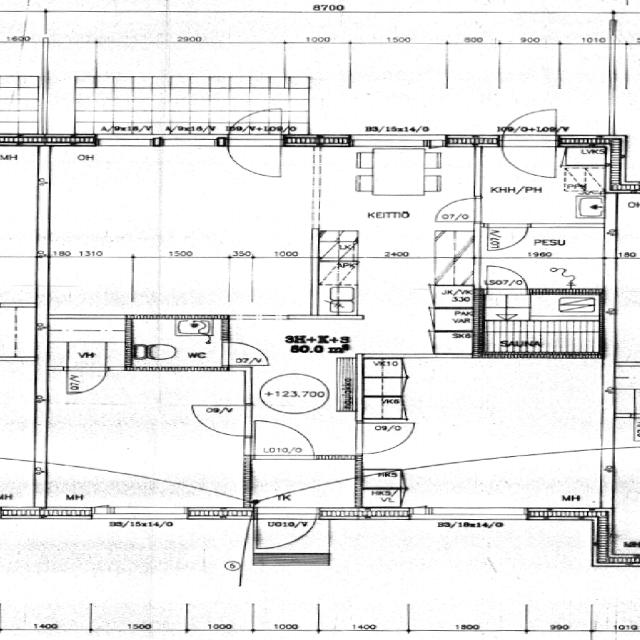door: (257, 508, 317, 555), (253, 420, 314, 460), (227, 134, 281, 177), (227, 102, 281, 145), (503, 134, 556, 177), (503, 103, 556, 145), (193, 405, 252, 437), (357, 424, 414, 454), (487, 265, 527, 295), (488, 222, 528, 250), (435, 198, 481, 221), (222, 342, 268, 364), (68, 366, 104, 394)
